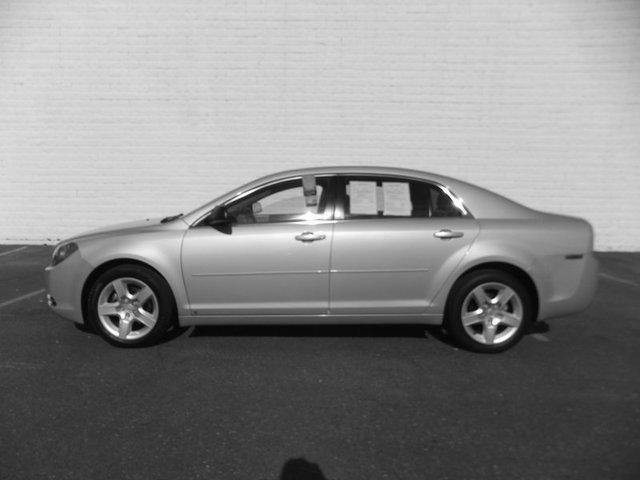car: (43, 164, 603, 355)
